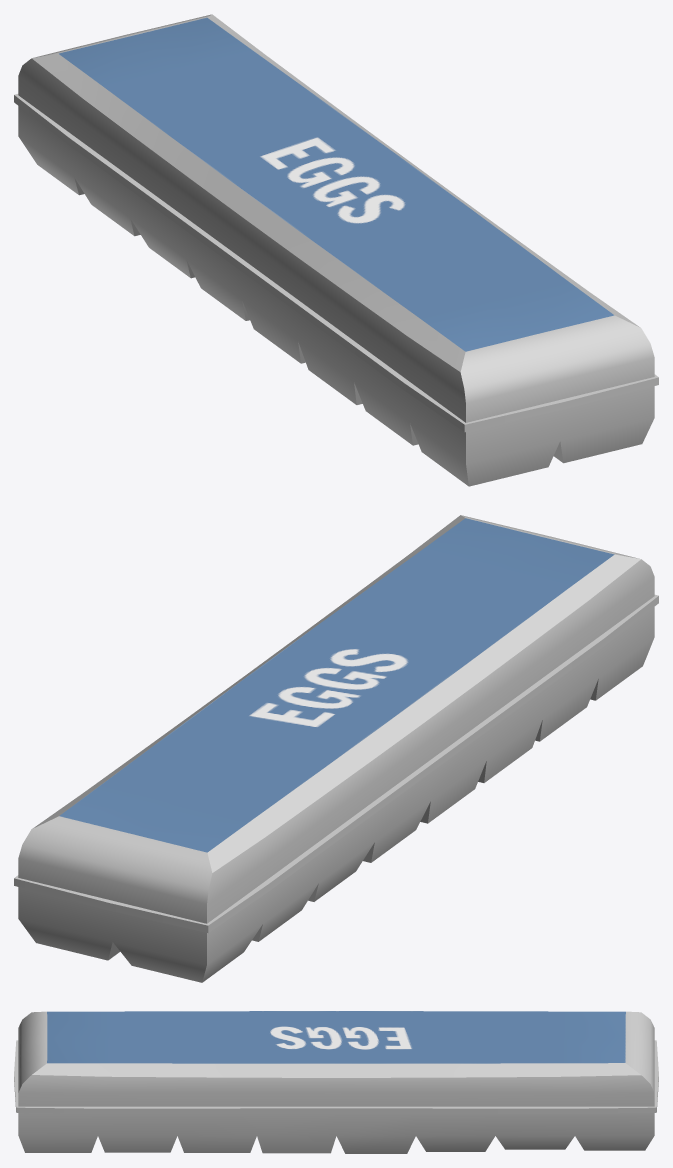
File: EggCarton.obj
3 renders of one model, top to bottom at view 1: azimuth 30°, elevation 25°; view 2: azimuth 150°, elevation 25°; view 3: azimuth 270°, elevation 25°, orthographic. The views are drawn at different scales.
Bounding box in the file's own units: 1.06 × 0.6231 × 4.17.
Materials: 1 (1 with a texture image).
